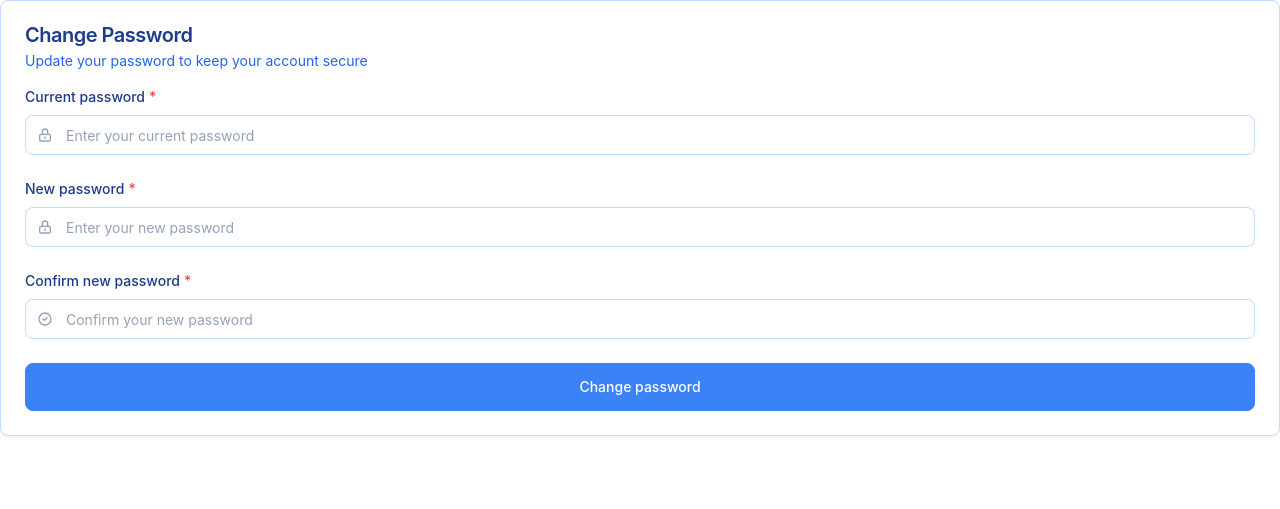
ChangePasswordForm › Form Validation › should show error for empty new password
The image size is (1280, 509).
Type "oldpassword" into the password field labelled "Current password*" at (640, 135), box [25,115,1255,155]
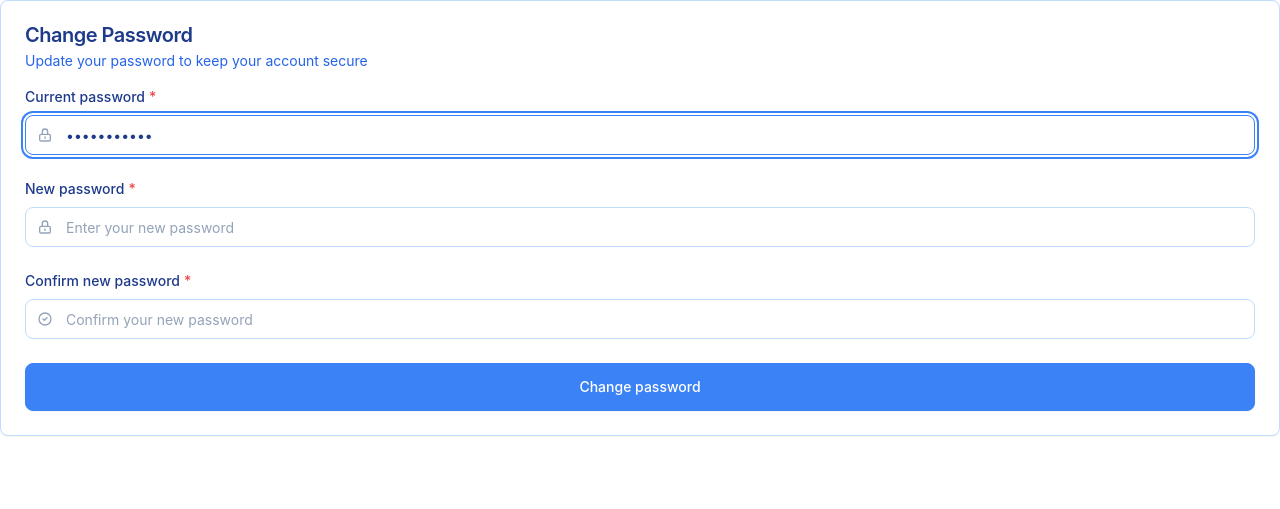
Submit the form
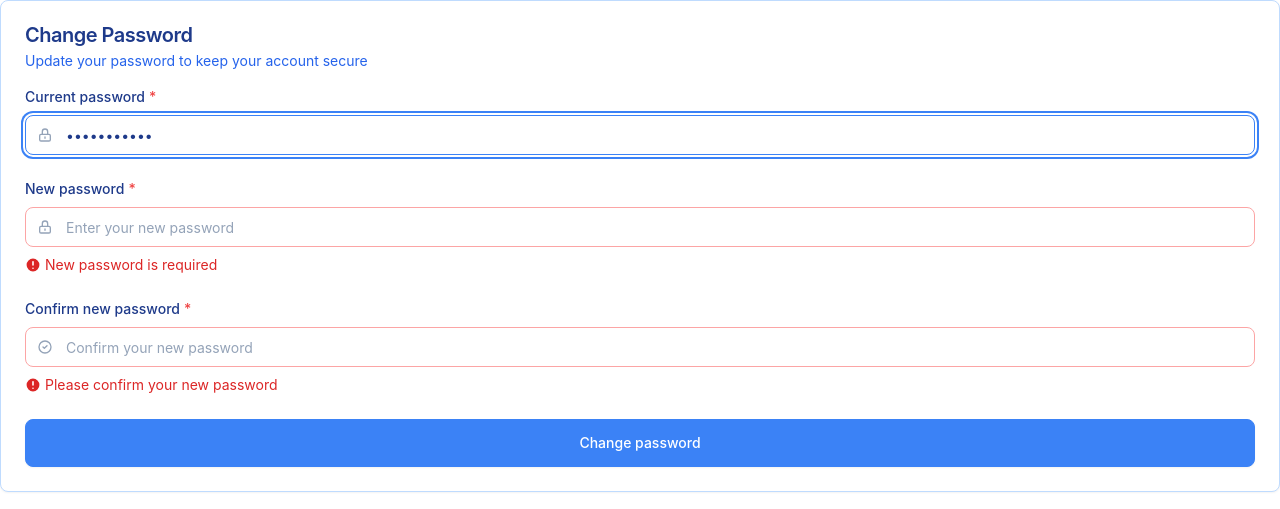
Now the text "New password is required" is shown, box [45,255,217,275]
